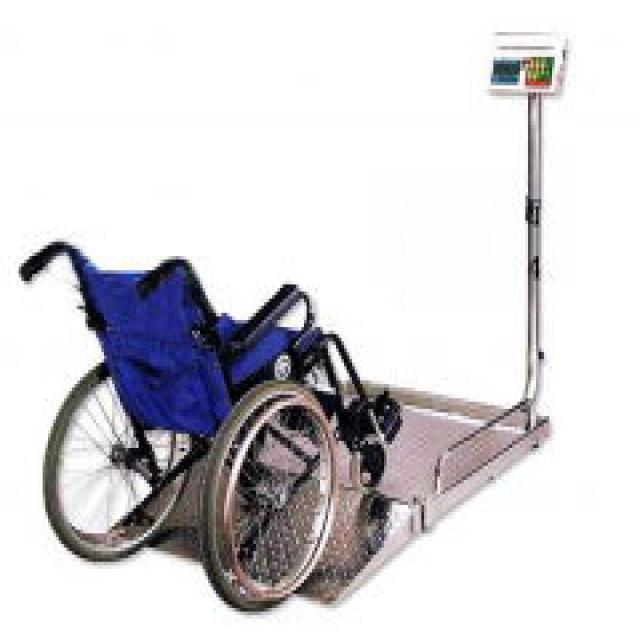wheelchairs: (15, 238, 398, 609)
